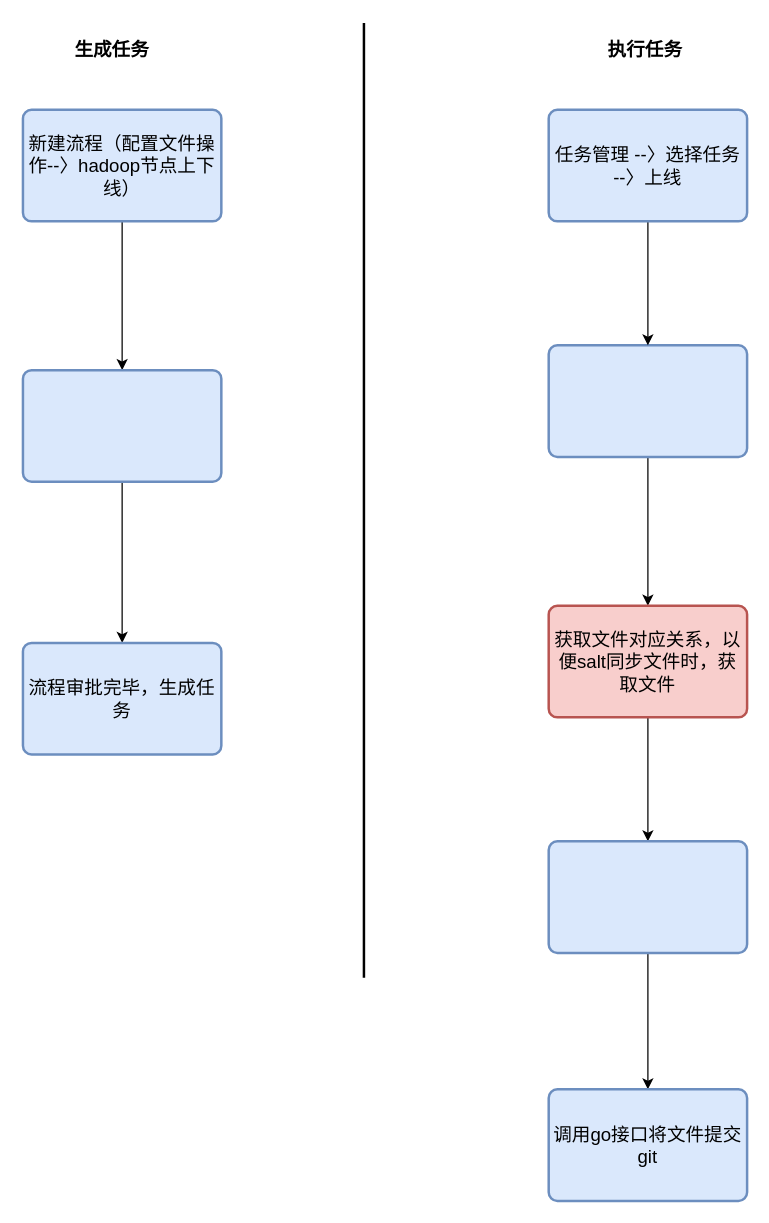
Image size: 769x1223. Some labels were removed from this diagram. The shapes that lost their labels are listed below. From the top down, each one's box as (x1, y1, x2, y2) in pixels, then its label:
(547, 343, 748, 458): 生成文件，并调用go接口保存到网盘
(21, 368, 222, 482): 提交流程
(547, 839, 748, 954): 执行salt操作： 1、同步文件 2、执行刷新命令 3、将文件提交到git
